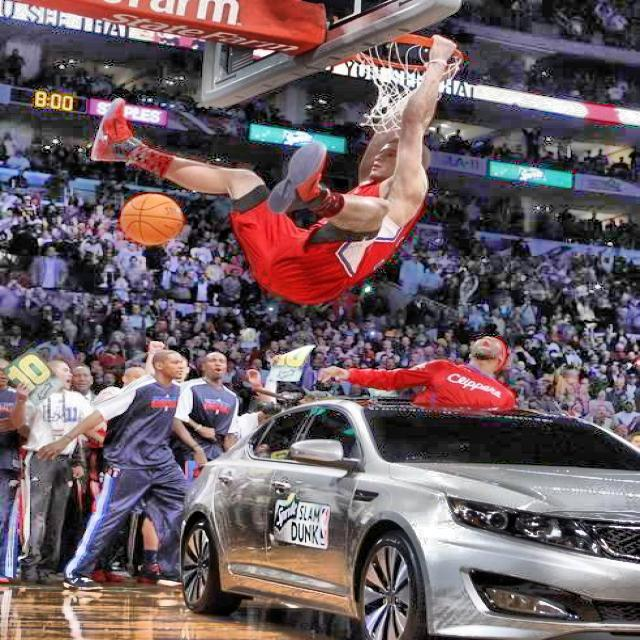board: (120, 194, 181, 243)
